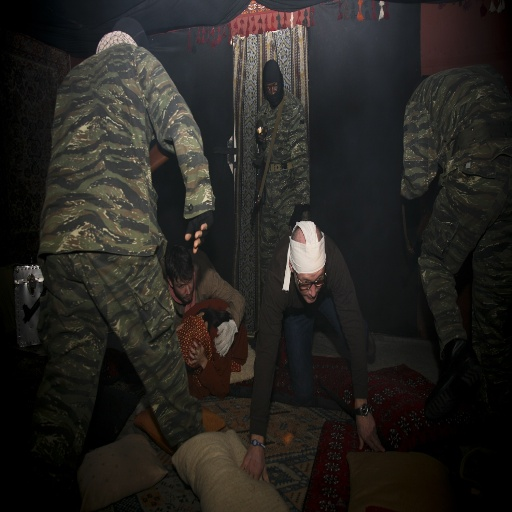hand: (355, 406, 387, 456), (238, 444, 271, 485), (210, 322, 236, 360), (184, 223, 205, 256), (185, 339, 206, 365)
